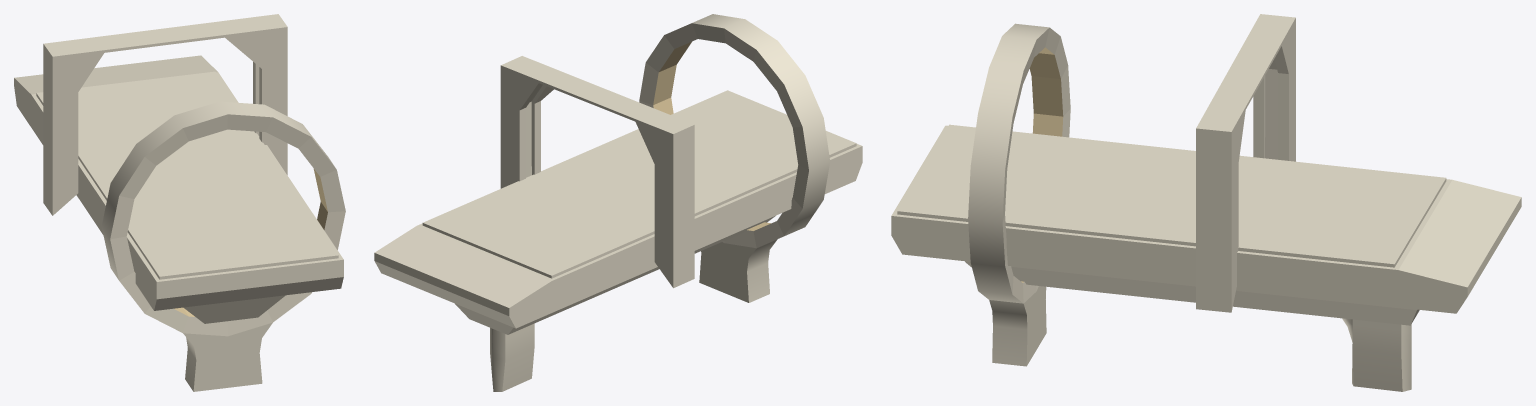
File: mri scan.fbx
The picture shows the model from 3 angles, left to right: view 1: azimuth 30°, elevation 25°; view 2: azimuth 150°, elevation 25°; view 3: azimuth 270°, elevation 25°; orthographic projection. The views are drawn at different scales.
Visible parts, largest first — view 1: city_123:pCube39; view 2: city_123:pCube39; view 3: city_123:pCube39.
Part boxes in pixels (<box>): city_123:pCube39: <box>14,14,345,391</box>; city_123:pCube39: <box>374,14,862,391</box>; city_123:pCube39: <box>891,14,1521,391</box>.
Size of the model in its own units: 4.97 by 4.62 by 8.51.
